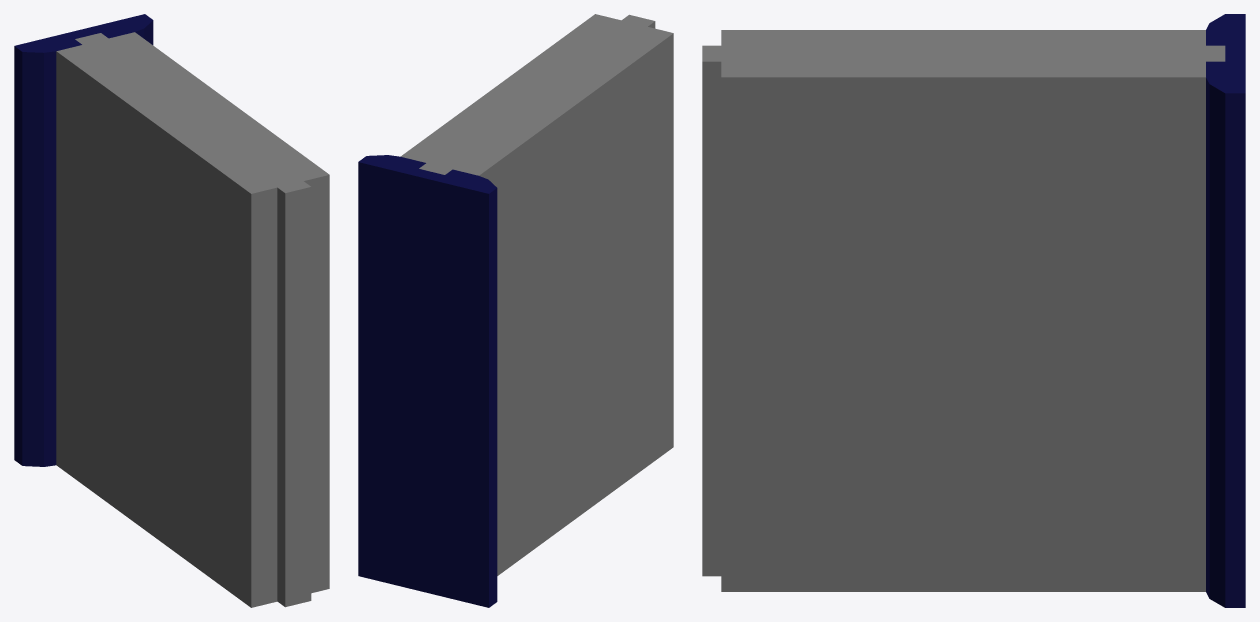
The model's file is LabDoor_Mesh.fbx.
3 renders of one model, left to right at view 1: azimuth 30°, elevation 25°; view 2: azimuth 150°, elevation 25°; view 3: azimuth 270°, elevation 25°, orthographic. The views are drawn at different scales.
Visible parts, largest first — view 1: Door, DoorFrame; view 2: Door, DoorFrame; view 3: Door, DoorFrame.
Boxes of the visible parts, <box> form: Door: <box>56,32,329,607</box>; DoorFrame: <box>14,14,153,466</box>; Door: <box>401,14,673,575</box>; DoorFrame: <box>358,155,497,607</box>; Door: <box>702,30,1225,591</box>; DoorFrame: <box>1206,14,1245,607</box>.
Size of the model in its own units: 52.35 by 158 by 152.
